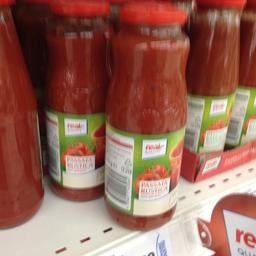tomato_sauce: (100, 4, 190, 230), (38, 0, 105, 200), (188, 2, 246, 148)
